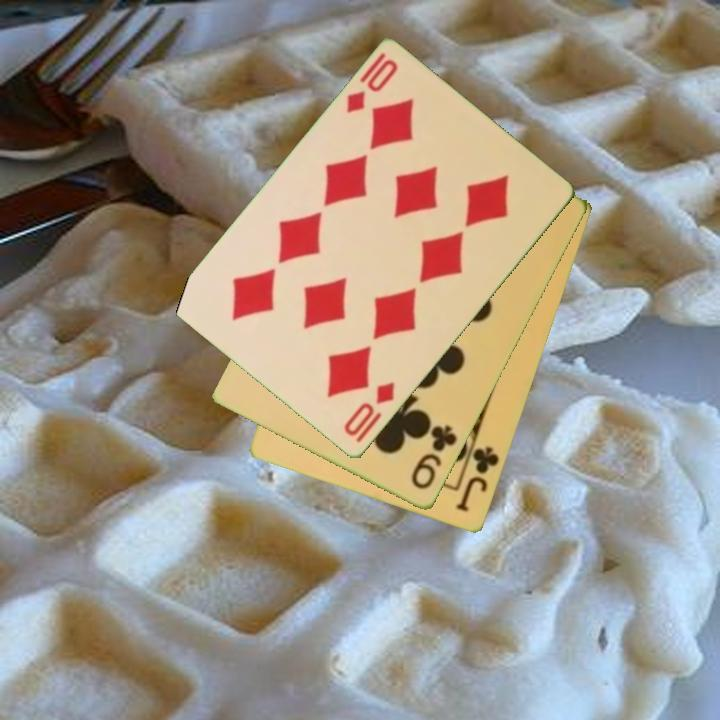10d: (340, 378, 398, 440), (343, 56, 401, 117)
9c: (408, 422, 461, 493)
Jc: (453, 435, 503, 516)
